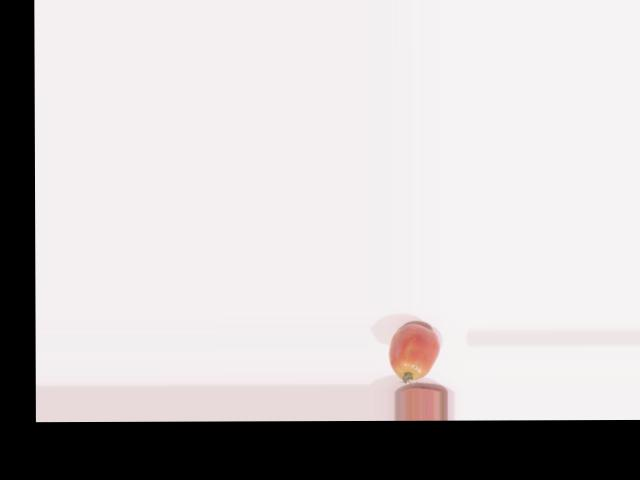tomato: (389, 324, 440, 380)
